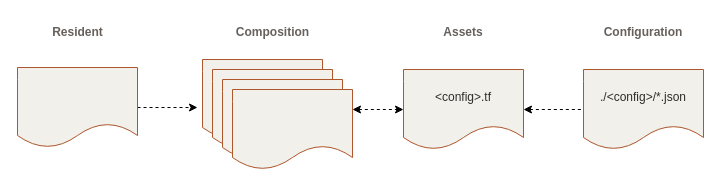
This 726x187 diagram has some shape labels left out. The box of each missing label's shape, as (x1, y1, x2, y2) in pixels:
./<asset>/*.tf: (232, 88, 352, 170)
schema.tf: (16, 66, 138, 148)
